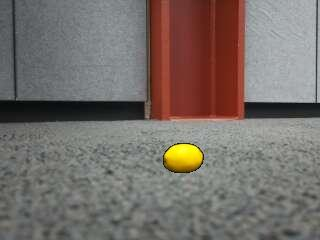lemon: (164, 144, 202, 173)
